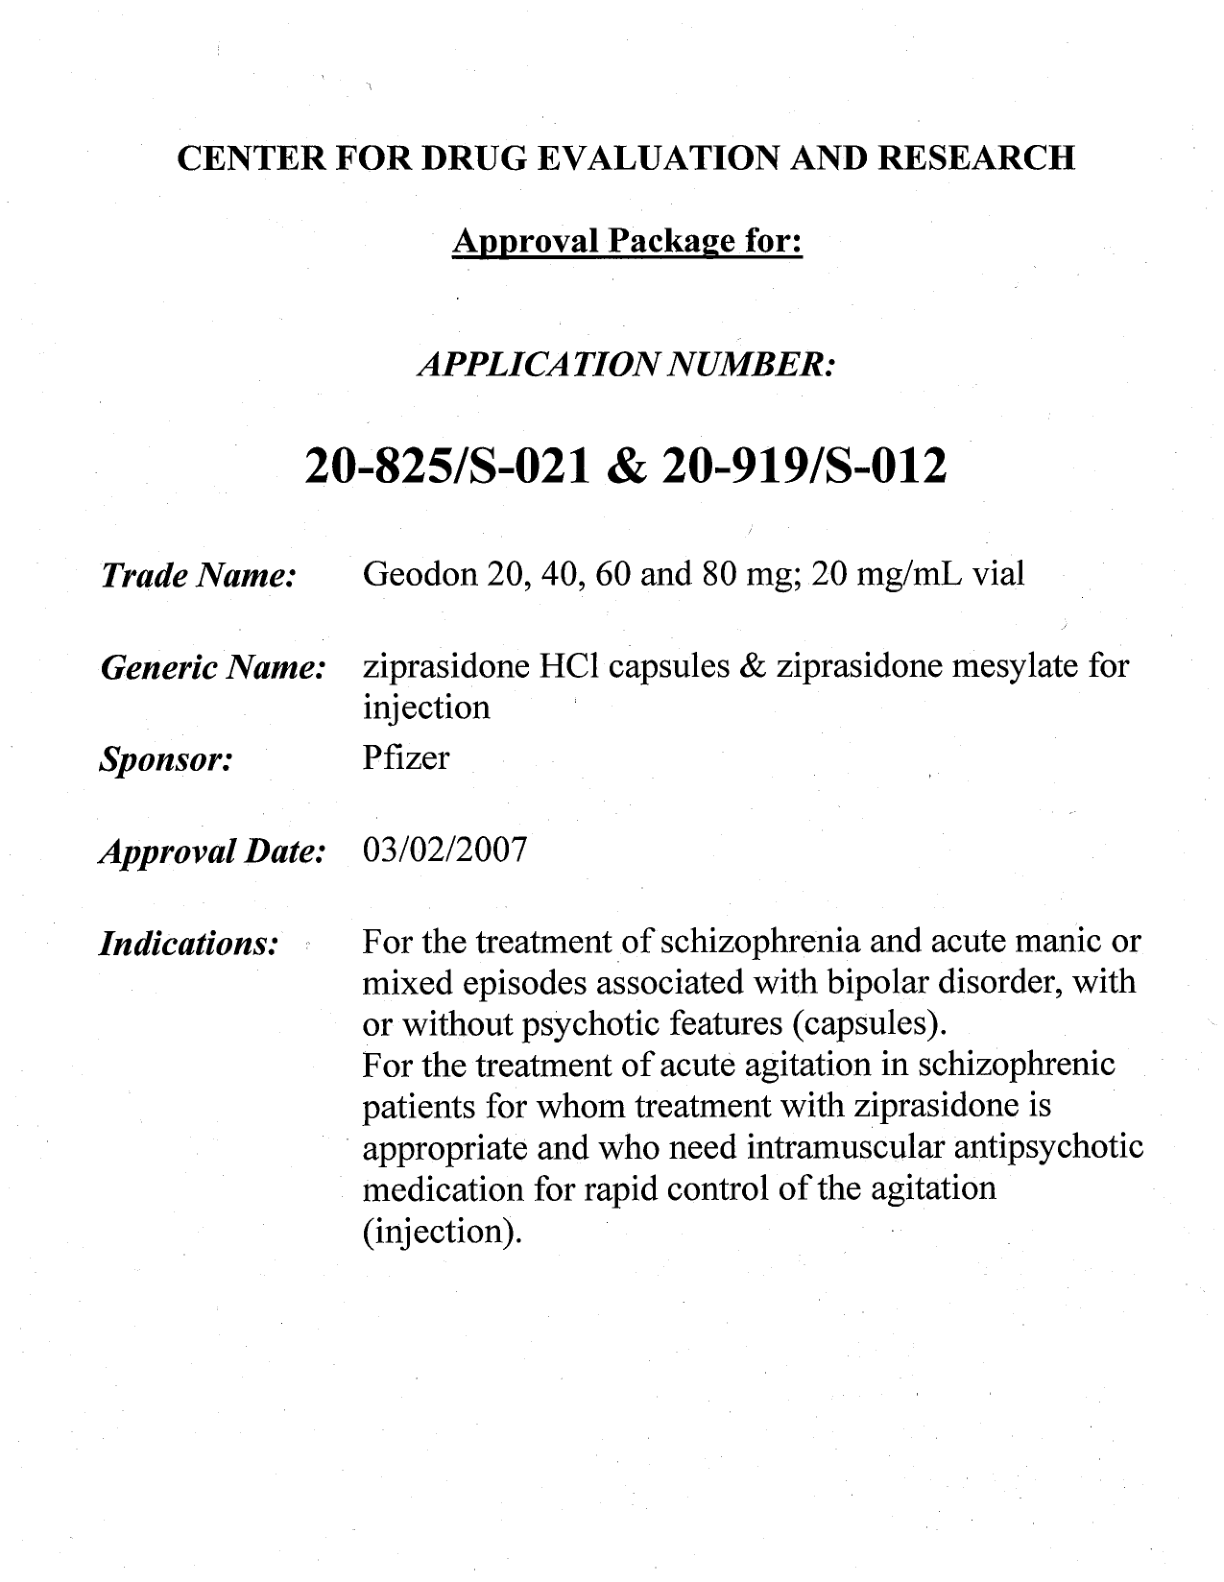nolines: (98, 559, 1144, 1251)
